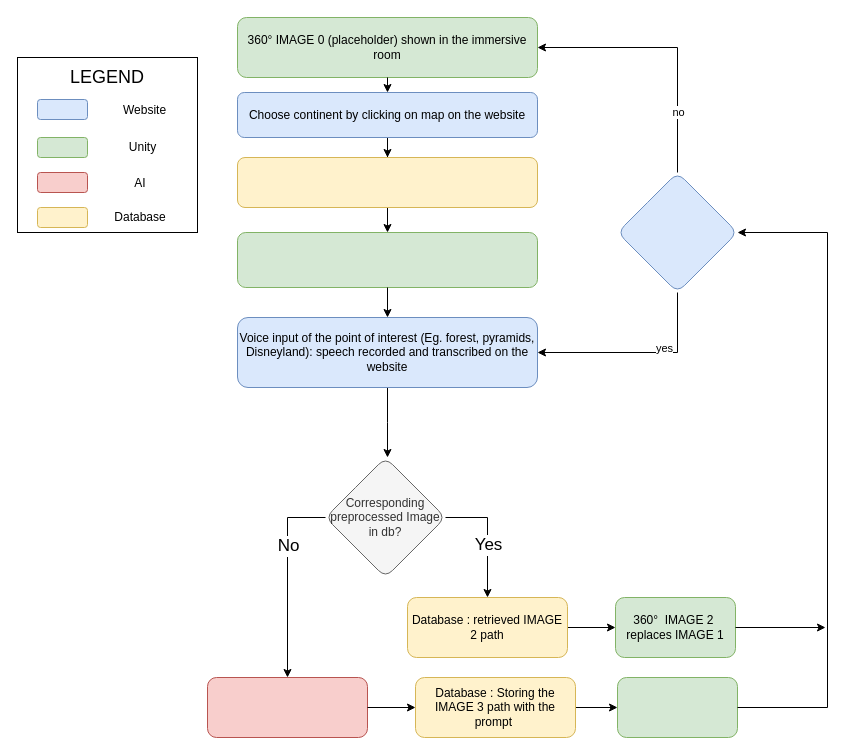
Image size: 853x755. Some labels were removed from this diagram. Here are the shapes that lost their labels. From the top down, the centre of each, then its label:
At point (387, 182): "The pre-generated IMAGE 1 is randomly selected".
At point (677, 232): "UI: Explore?".
At point (387, 260): "360° IMAGE 1 replaces IMAGE 0 in the immersive room".
At point (287, 707): "Text-To-Image model creates IMAGE 3".
At point (677, 707): "360° IMAGE 3 replaces IMAGE 1".
